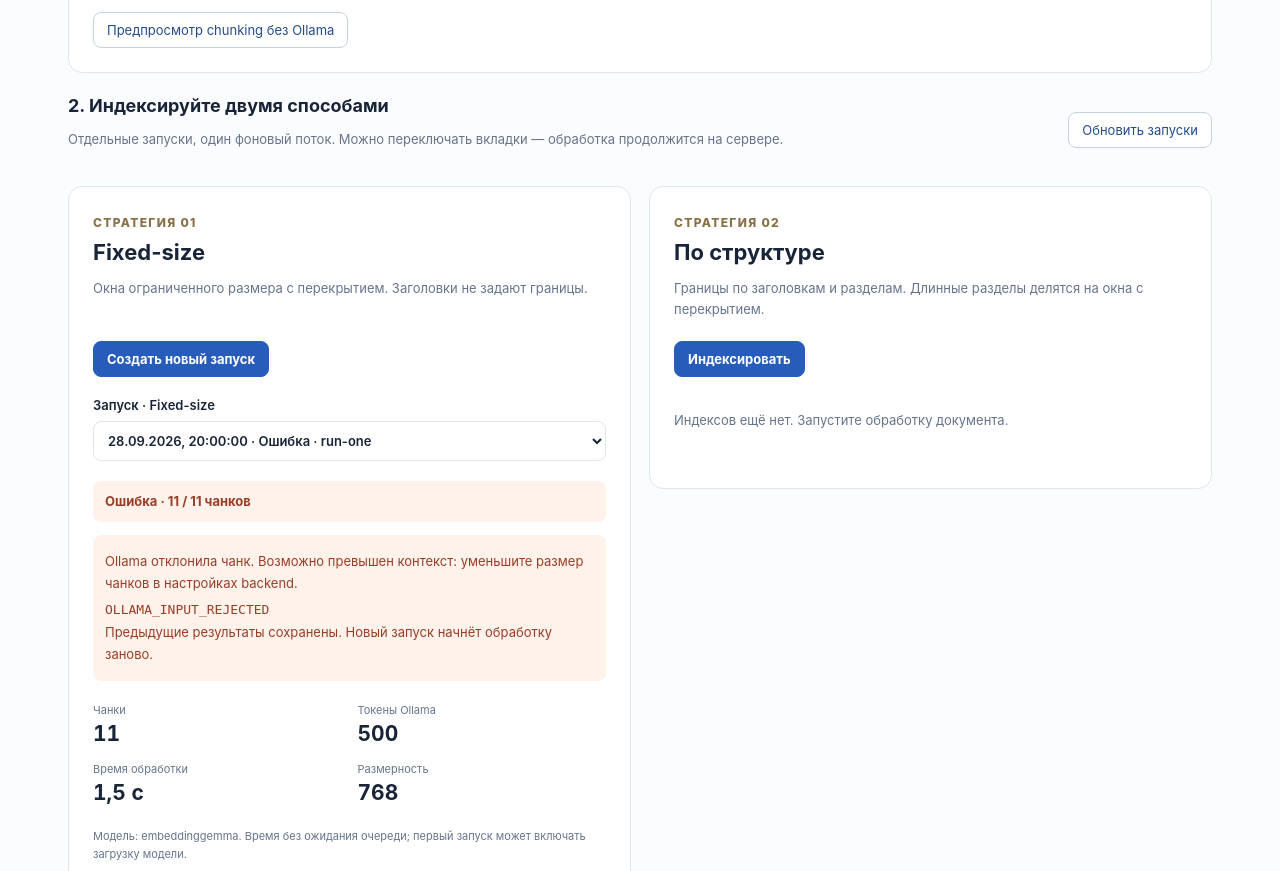
it: RAG documents › explains provider failure and retains old runs when retrying
The image size is (1280, 871).
(page scrolled)
Expected: the text "Ollama отклонила чанк" is shown, [105,553,583,591]
Select "28.09.2026, 20:00:00 · Готово · old" in the dropdown at (350, 441), box [93,421,606,461]
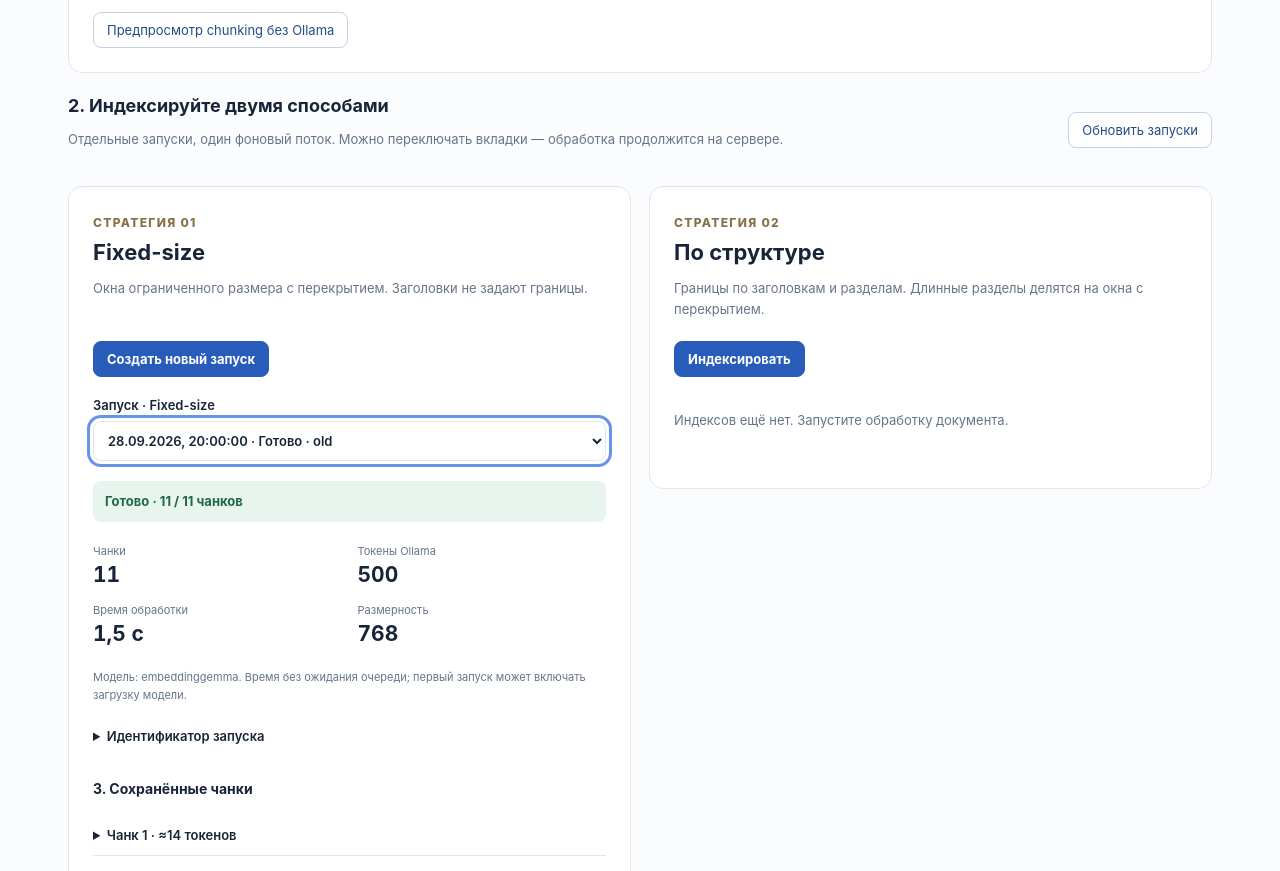
Expected: the text "Готово · 11 / 11 чанков" is shown, [93,481,606,522]
Click the button "Создать новый запуск" at (181, 359), box [93,341,269,377]
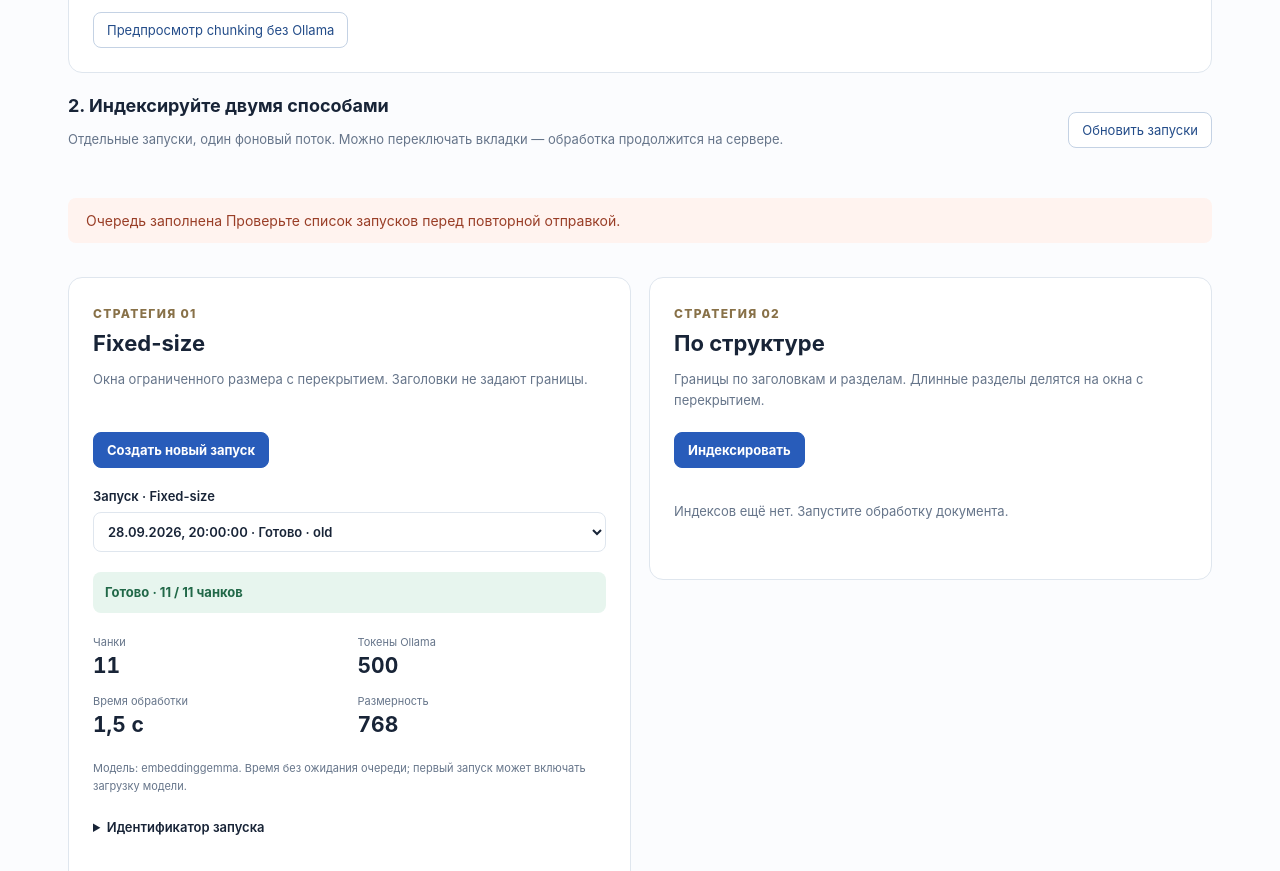
Expected: the text "Готово · 11 / 11 чанков" is shown, [93,572,606,613]
Expected: the text "Очередь заполнена" is shown, [86,212,620,229]
